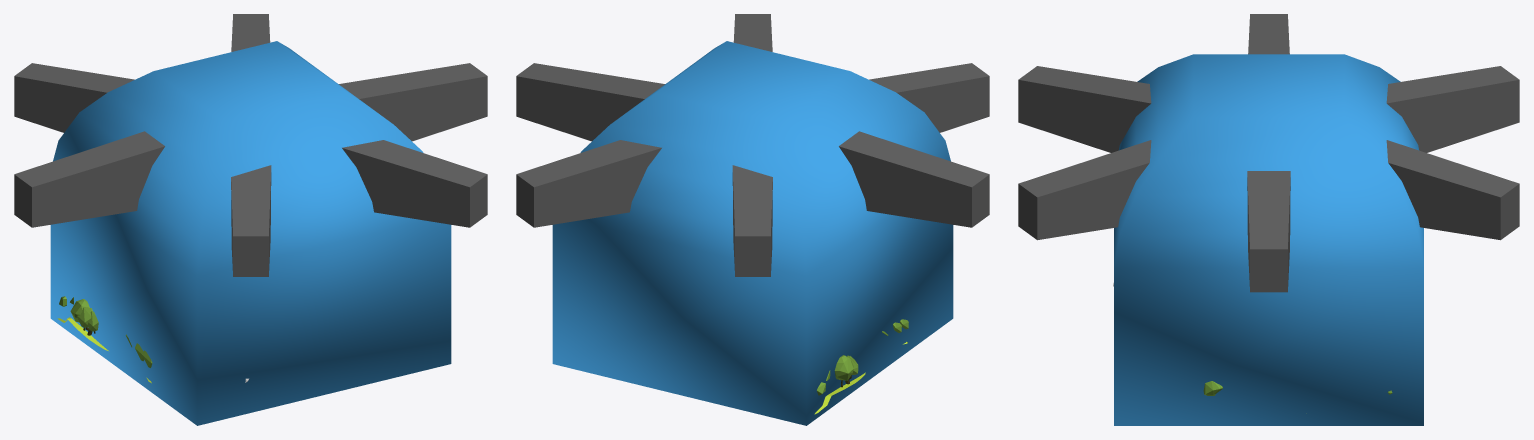
The model's file is map forêt 63456365.fbx.
3 renders of one model, left to right at view 1: azimuth 30°, elevation 25°; view 2: azimuth 150°, elevation 25°; view 3: azimuth 270°, elevation 25°, orthographic. The views are drawn at different scales.
Parts seen in each view (by area): view 1: plateau node rendu 3; view 2: plateau node rendu 3; view 3: plateau node rendu 3.
Boxes of the visible parts, left/top/right/bottom form: plateau node rendu 3: left=14, top=14, right=487, bottom=425; plateau node rendu 3: left=516, top=14, right=989, bottom=425; plateau node rendu 3: left=1018, top=14, right=1519, bottom=425.
Size of the model in its own units: 38646 by 21001 by 34779.
